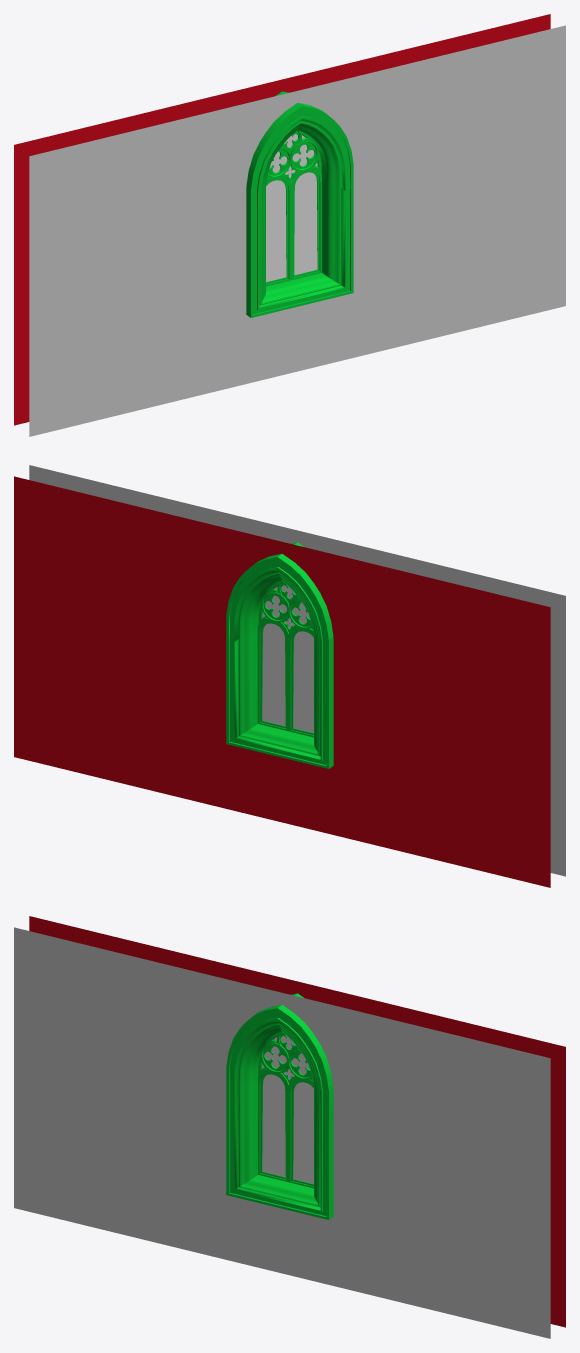
The model's file is Wall_Windows.fbx.
3 views of the same model, one above another, from view 1: azimuth 30°, elevation 25°; view 2: azimuth 150°, elevation 25°; view 3: azimuth 330°, elevation 25° (orthographic).
Visible parts, largest first — view 1: Wall.001, Glass; view 2: Wall.001, Glass; view 3: Wall.001, Glass.
Boxes of the visible parts, x1,y1,x2,y2 form: Wall.001: (14,14,565,436); Glass: (266,134,317,281); Wall.001: (14,465,565,887); Glass: (262,585,313,732); Wall.001: (14,916,565,1338); Glass: (262,1036,313,1183).
Size of the model in its own units: 1000 by 500 by 79.94.
